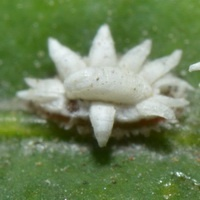insect: (17, 24, 192, 146)
